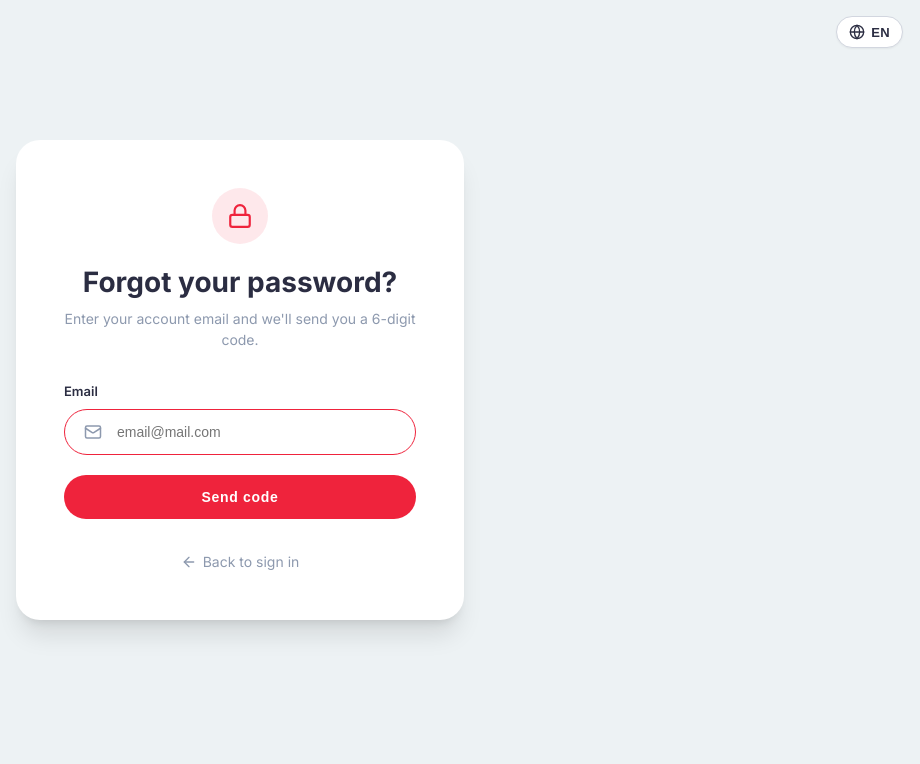
Test case: ForgotPasswordPage › can go back to the email step
Type "ana@example.com" into the field labelled "Email".
click(240, 432); type("ana@example.com")  # box top-left (64, 409), bottom-right (416, 455)
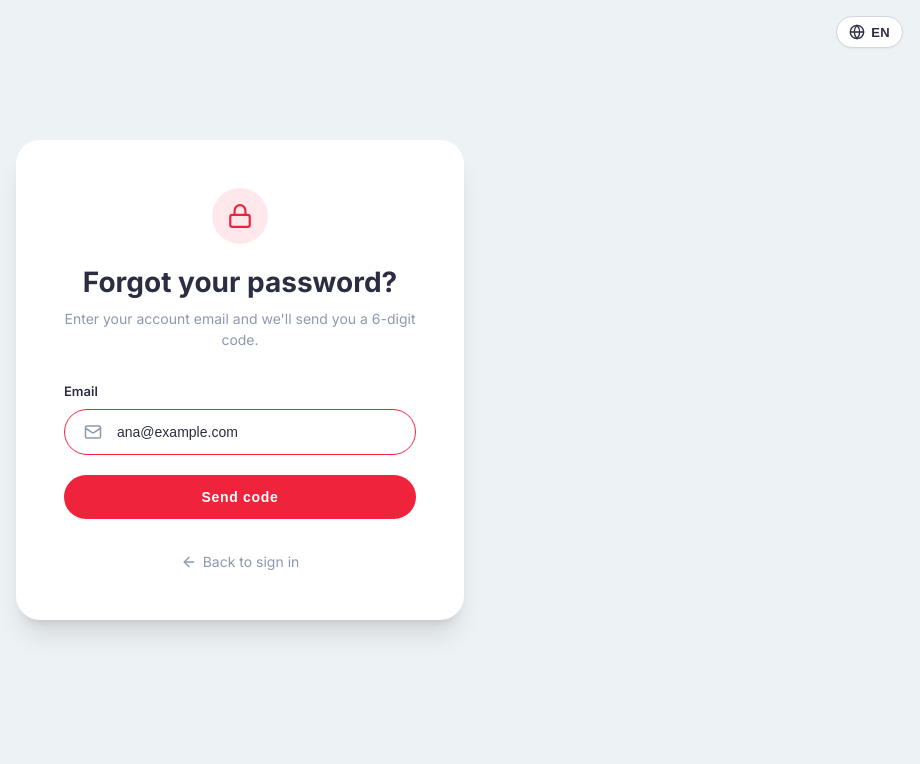
Click the button "Send code".
click(240, 497)  # box top-left (64, 475), bottom-right (416, 519)
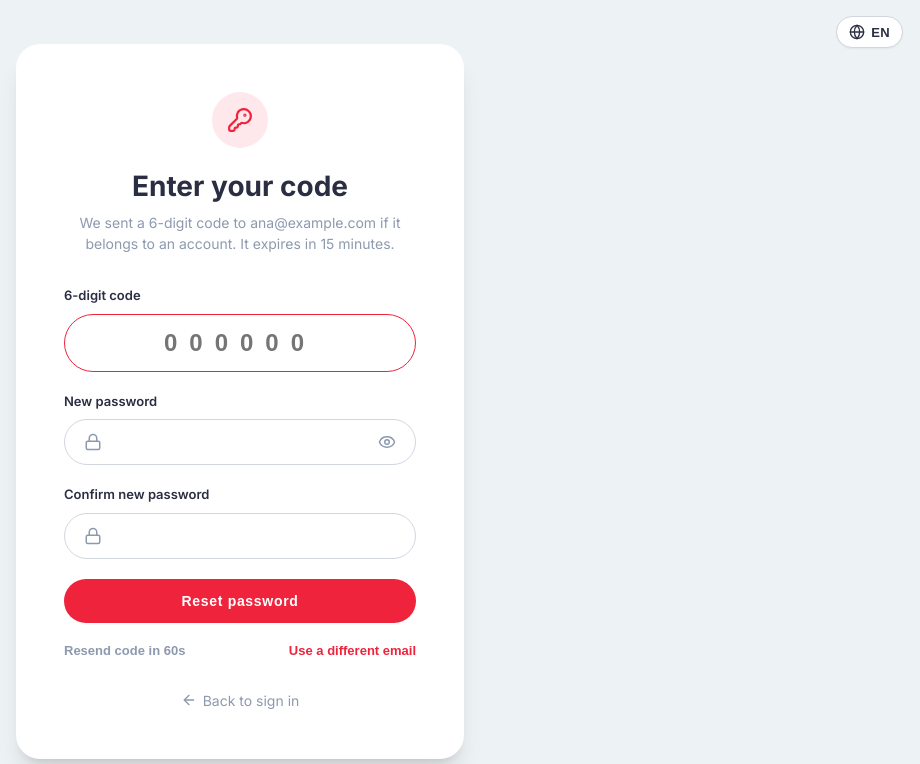
Result: the field labelled "6-digit code" is shown at top-left (64, 314), bottom-right (416, 372)
Click the button "Use a different email".
click(352, 650)  # box top-left (289, 642), bottom-right (416, 658)
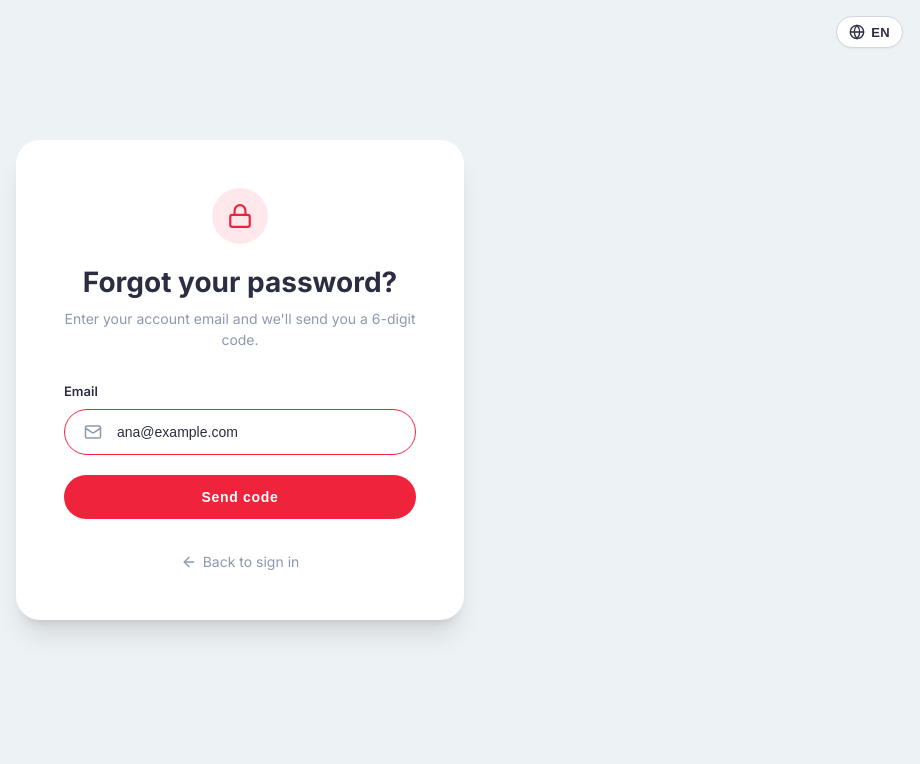
Result: the button "Send code" is shown at top-left (64, 475), bottom-right (416, 519)
